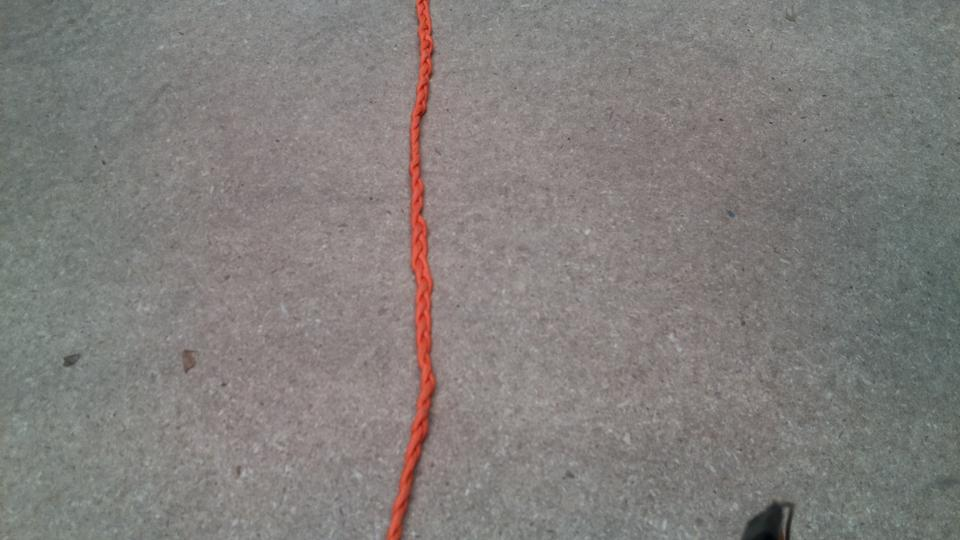rope: (378, 1, 445, 538)
